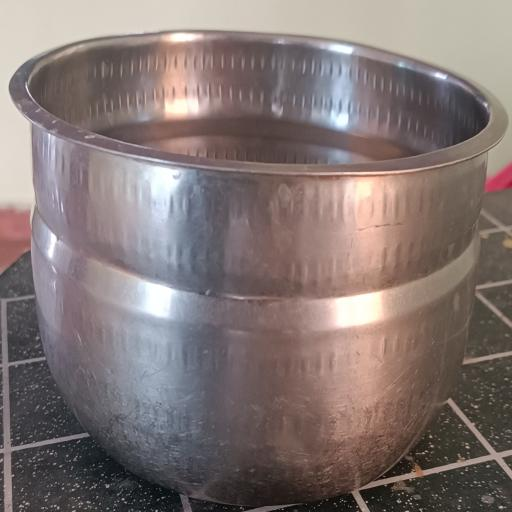vessel: (9, 31, 507, 506)
